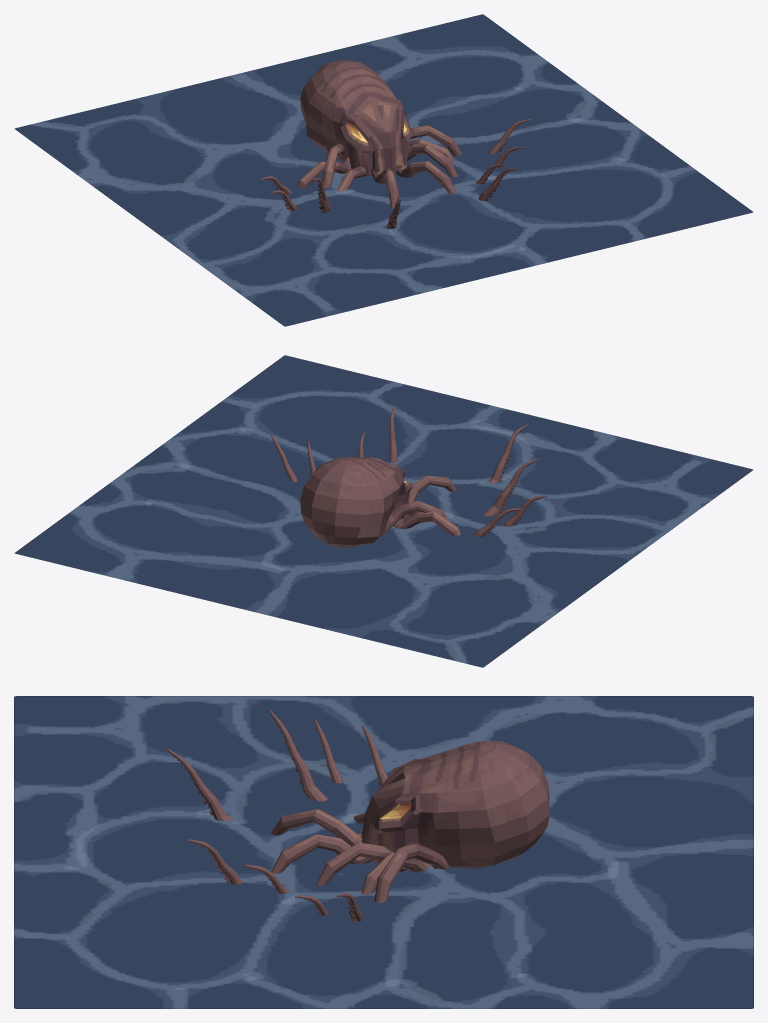
The model's file is kraken.fbx.
The picture shows the model from 3 angles, top to bottom: view 1: azimuth 30°, elevation 25°; view 2: azimuth 150°, elevation 25°; view 3: azimuth 270°, elevation 25°; orthographic projection. The views are drawn at different scales.
Visible parts, largest first — view 1: pPlane2, pSphere2, pCylinder7_1, pCylinder4_1, pCylinder5_1, pCylinder3_1, pCylinder2_1; view 2: pPlane2, pSphere2, pCylinder2_1, pCylinder3_1, pCylinder7_1; view 3: pPlane2, pSphere2, pCylinder7_1, pCylinder5_1, pCylinder4_1, pCylinder2_3, pCylinder6_1, pCylinder1.
Boxes of the visible parts, x1=… form: pPlane2: x1=15, y1=14, x2=752, y2=326; pSphere2: x1=300, y1=59, x2=413, y2=176; pCylinder7_1: x1=370, y1=161, x2=456, y2=207; pCylinder4_1: x1=407, y1=144, x2=457, y2=177; pCylinder5_1: x1=410, y1=125, x2=461, y2=155; pCylinder3_1: x1=322, y1=143, x2=344, y2=188; pCylinder2_1: x1=297, y1=157, x2=351, y2=187; pPlane2: x1=15, y1=355, x2=752, y2=667; pSphere2: x1=300, y1=457, x2=413, y2=547; pCylinder2_1: x1=393, y1=511, x2=460, y2=535; pCylinder3_1: x1=380, y1=500, x2=447, y2=536; pCylinder7_1: x1=392, y1=464, x2=456, y2=502; pPlane2: x1=14, y1=696, x2=753, y2=1008; pSphere2: x1=360, y1=741, x2=549, y2=868; pCylinder7_1: x1=271, y1=809, x2=372, y2=873; pCylinder5_1: x1=374, y1=843, x2=449, y2=902; pCylinder4_1: x1=316, y1=842, x2=407, y2=885; pCylinder2_3: x1=268, y1=709, x2=327, y2=801; pCylinder6_1: x1=361, y1=852, x2=430, y2=894; pCylinder1: x1=165, y1=748, x2=231, y2=820.
Size of the model in its own units: 2697 by 753 by 2697.
Materials: 5 (5 with a texture image).
